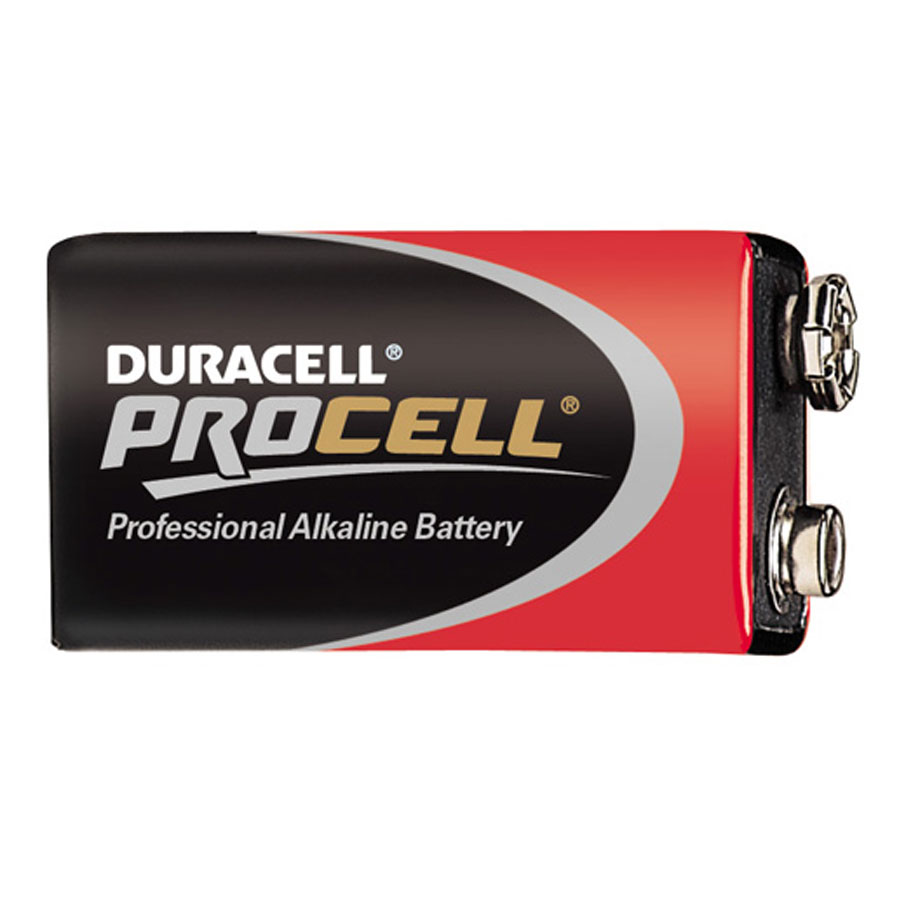9V: (34, 201, 856, 682)
